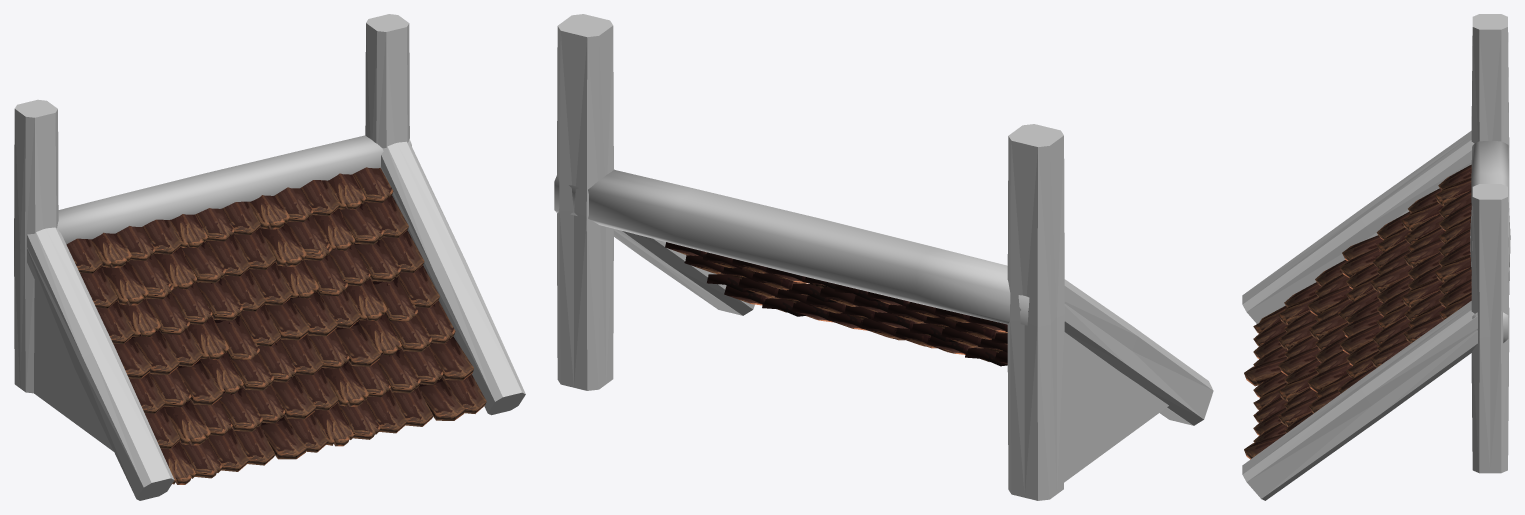
File: VV-RoofTile8.fbx
The picture shows the model from 3 angles, left to right: view 1: azimuth 30°, elevation 25°; view 2: azimuth 150°, elevation 25°; view 3: azimuth 270°, elevation 25°; orthographic projection. The views are drawn at different scales.
Visible parts, largest first — view 1: RoofTile.8; view 2: RoofTile.8; view 3: RoofTile.8.
Boxes of the visible parts, x1,y1,x2,y2 form: RoofTile.8: (14, 14, 525, 500); RoofTile.8: (554, 14, 1213, 500); RoofTile.8: (1242, 14, 1510, 500).
Size of the model in its own units: 4.38 by 3.34 by 2.67.
